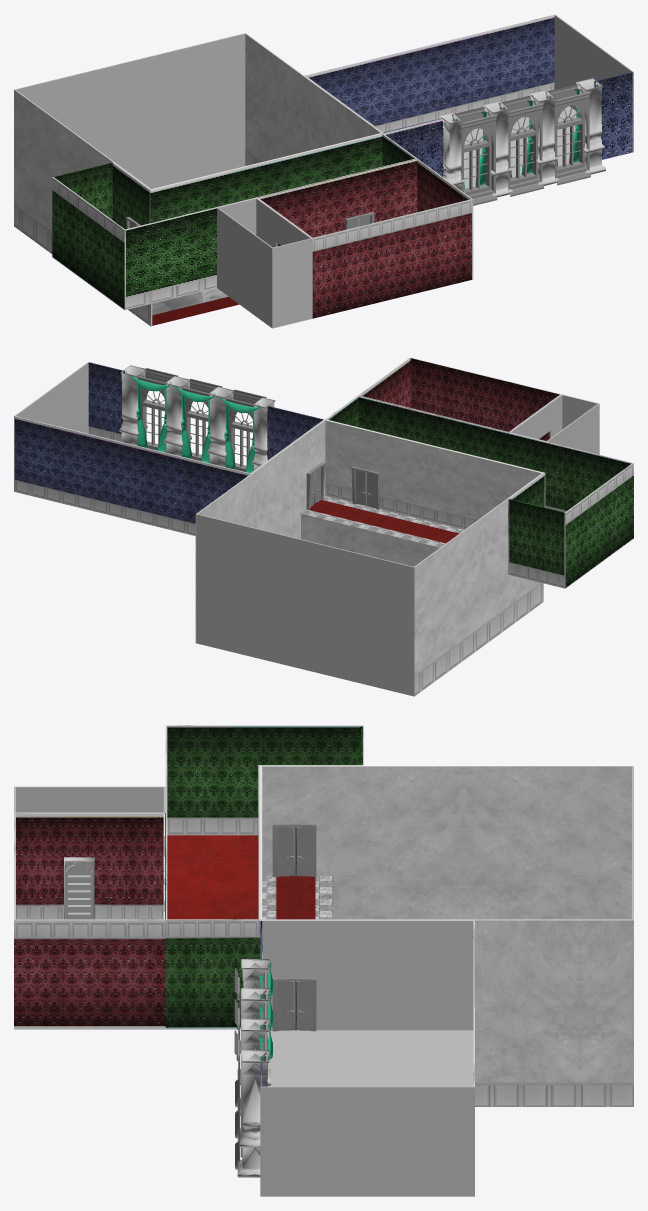
The model's file is Palacio no definitivo.FBX.
3 views of the same model, one above another, from view 1: azimuth 30°, elevation 25°; view 2: azimuth 150°, elevation 25°; view 3: azimuth 270°, elevation 25° (orthographic). The views are drawn at different scales.
Visible parts, largest first — view 1: Pared Sur Hall, Pared Sur Sala de Estar, Pared Norte Estudio, Pared Oeste Hall, Pared Sur Pasillo, Pared Norte Pasillo, Pared Este Hall, Pared Sur Estudio, Pared Derecha Pasillo, Pared Derecha Cuarto Oscuro, Pared NorteSala de Estar, Pared Norte Cuarto Oscuro (+16 smaller); view 2: Pared Sur Hall, Pared Sur Sala de Estar, Pared Este Hall, Pared Norte Hall, Pared Norte Pasillo, Pared Oeste Hall, Descansillo Hall, Pared Norte Estudio, Pared Derecha Pasillo, Pared Sur derecha Pasillo, Pared NorteSala de Estar, Pared Oeste Sala de Estar (+13 smaller); view 3: Pared Este Hall, Pared Oeste Hall, Pared Oeste Sala de Estar, Pared Este Sala de Estar, Pared Izquierda Estudio, Pared Derecha Pasillo, Pared Derecha Estudio, Suelo Sala de Estar, Pared Izquierda Pasillo, Suelo Pasillo, Pared Derecha Cuarto Oscuro, Descansillo Hall (+10 smaller).
Boxes of the visible parts, x1=… form: Pared Sur Hall: x1=15, y1=33, x2=245, y2=188; Pared Sur Sala de Estar: x1=306, y1=15, x2=554, y2=132; Pared Norte Estudio: x1=312, y1=199, x2=471, y2=318; Pared Oeste Hall: x1=245, y1=33, x2=382, y2=165; Pared Sur Pasillo: x1=149, y1=133, x2=382, y2=223; Pared Norte Pasillo: x1=125, y1=158, x2=415, y2=309; Pared Este Hall: x1=14, y1=89, x2=152, y2=326; Pared Sur Estudio: x1=257, y1=159, x2=417, y2=237; Pared Derecha Pasillo: x1=52, y1=177, x2=125, y2=310; Pared Derecha Cuarto Oscuro: x1=217, y1=208, x2=272, y2=327; Pared NorteSala de Estar: x1=383, y1=72, x2=632, y2=176; Pared Norte Cuarto Oscuro: x1=271, y1=238, x2=312, y2=328; Pared Sur Hall: x1=197, y1=514, x2=413, y2=695; Pared Sur Sala de Estar: x1=15, y1=416, x2=249, y2=535; Pared Este Hall: x1=413, y1=473, x2=543, y2=696; Pared Norte Hall: x1=325, y1=420, x2=542, y2=529; Pared Norte Pasillo: x1=358, y1=396, x2=632, y2=512; Pared Oeste Hall: x1=195, y1=419, x2=325, y2=643; Descansillo Hall: x1=301, y1=496, x2=463, y2=566; Pared Norte Estudio: x1=410, y1=357, x2=561, y2=431; Pared Derecha Pasillo: x1=564, y1=463, x2=633, y2=588; Pared Sur derecha Pasillo: x1=509, y1=499, x2=564, y2=588; Pared NorteSala de Estar: x1=88, y1=362, x2=323, y2=459; Pared Oeste Sala de Estar: x1=14, y1=362, x2=88, y2=491; Pared Este Hall: x1=260, y1=766, x2=633, y2=919; Pared Oeste Hall: x1=260, y1=919, x2=633, y2=1106; Pared Oeste Sala de Estar: x1=260, y1=1086, x2=474, y2=1196; Pared Este Sala de Estar: x1=260, y1=920, x2=474, y2=1030; Pared Izquierda Estudio: x1=14, y1=919, x2=165, y2=1029; Pared Derecha Pasillo: x1=165, y1=725, x2=363, y2=835; Pared Derecha Estudio: x1=16, y1=813, x2=163, y2=919; Suelo Sala de Estar: x1=267, y1=1030, x2=473, y2=1086; Pared Izquierda Pasillo: x1=165, y1=919, x2=260, y2=1029; Suelo Pasillo: x1=167, y1=835, x2=258, y2=919; Pared Derecha Cuarto Oscuro: x1=16, y1=786, x2=163, y2=812; Descansillo Hall: x1=262, y1=876, x2=332, y2=919.
Size of the model in its own units: 6783 by 1641 by 4909.
